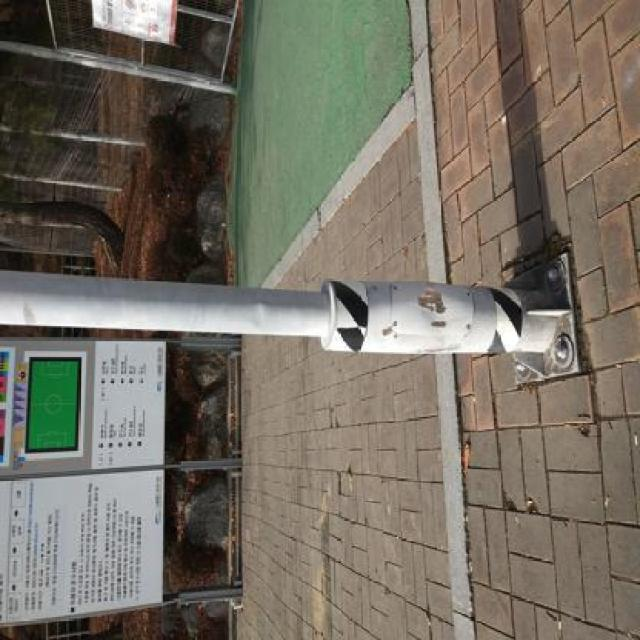pole: (0, 266, 571, 372)
